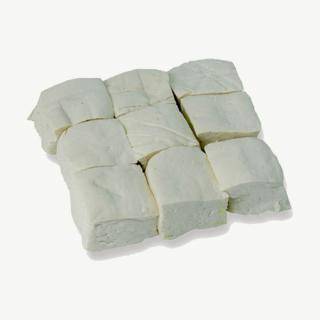Tahu: (23, 55, 300, 264)
